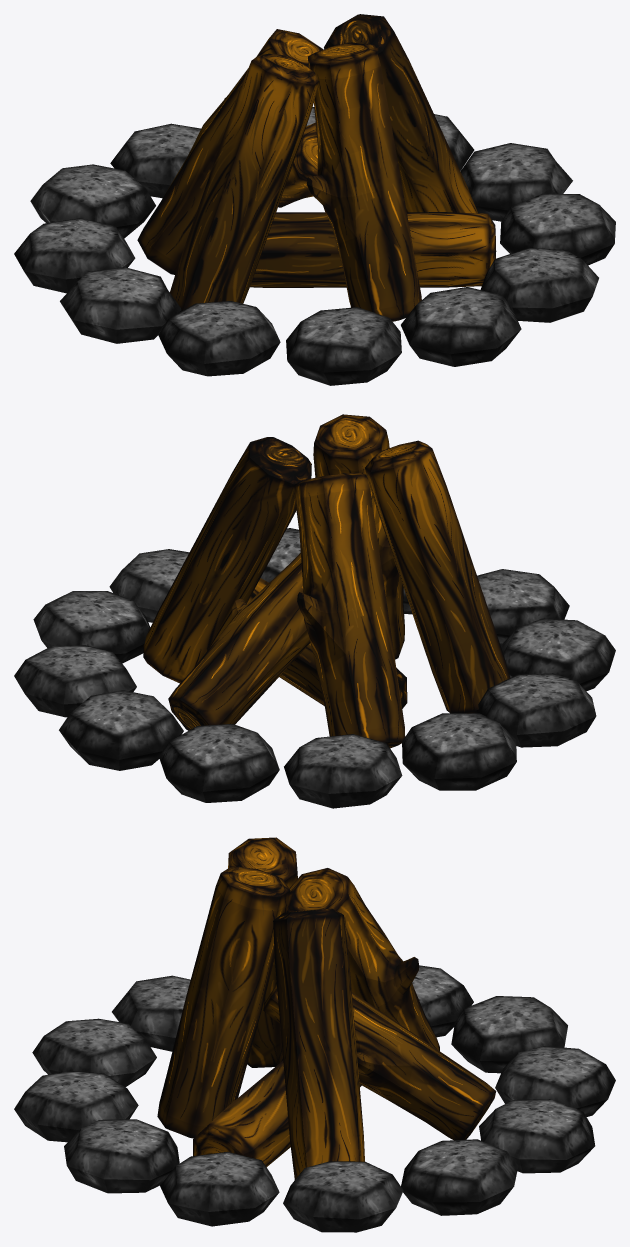
File: UnityLagerFeuerGroß.fbx
The picture shows the model from 3 angles, top to bottom: view 1: azimuth 30°, elevation 25°; view 2: azimuth 150°, elevation 25°; view 3: azimuth 270°, elevation 25°; orthographic projection.
Parts seen in each view (by area): view 1: Cube.015, Cube.013, Cube.017, Cube.014, Cube.006, Cube.016, Cube.005, Cube.007, Cube.008, Cube.004, Cube.003, Cube.009 (+5 smaller); view 2: Cube.016, Cube.013, Cube.014, Cube.018, Cube.009, Cube.001, Cube.011, Cube.010, Cube.008, Cube.002, Cube.012, Cube.007 (+5 smaller); view 3: Cube.015, Cube.014, Cube.018, Cube.016, Cube.012, Cube.004, Cube.002, Cube.003, Cube.011, Cube.010, Cube.005, Cube.001 (+5 smaller).
Part boxes in pixels (x1,y1,x2,y2): Cube.015: [307, 42, 421, 321]; Cube.013: [170, 53, 318, 311]; Cube.017: [250, 212, 496, 287]; Cube.014: [324, 14, 477, 213]; Cube.006: [286, 307, 401, 385]; Cube.016: [137, 29, 322, 274]; Cube.005: [401, 287, 521, 366]; Cube.007: [158, 301, 280, 376]; Cube.008: [60, 267, 181, 343]; Cube.004: [480, 248, 598, 322]; Cube.003: [500, 193, 615, 265]; Cube.009: [14, 218, 135, 293]; Cube.016: [294, 472, 405, 748]; Cube.013: [365, 440, 510, 713]; Cube.014: [143, 437, 311, 683]; Cube.018: [168, 552, 310, 730]; Cube.009: [402, 713, 516, 790]; Cube.001: [159, 724, 279, 802]; Cube.011: [59, 690, 183, 770]; Cube.010: [284, 734, 402, 808]; Cube.008: [478, 673, 596, 747]; Cube.002: [33, 591, 150, 663]; Cube.012: [14, 645, 136, 717]; Cube.007: [501, 618, 615, 691]; Cube.015: [157, 866, 290, 1138]; Cube.014: [273, 908, 364, 1179]; Cube.018: [263, 984, 496, 1140]; Cube.016: [286, 868, 439, 1050]; Cube.012: [401, 1139, 518, 1215]; Cube.004: [64, 1119, 179, 1193]; Cube.002: [283, 1161, 403, 1232]; Cube.003: [160, 1151, 279, 1226]; Cube.011: [479, 1099, 595, 1173]; Cube.010: [451, 996, 567, 1073]; Cube.005: [14, 1071, 138, 1142]; Cube.001: [495, 1046, 615, 1116].
Size of the model in its own units: 911 by 426 by 913.
Materials: 1 (1 with a texture image).
